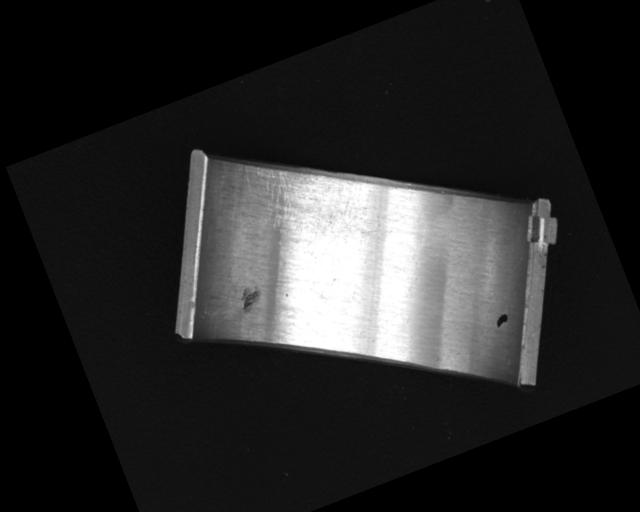blot: (492, 311, 511, 329)
bruise: (234, 282, 266, 312)
scratch: (238, 132, 368, 257)
